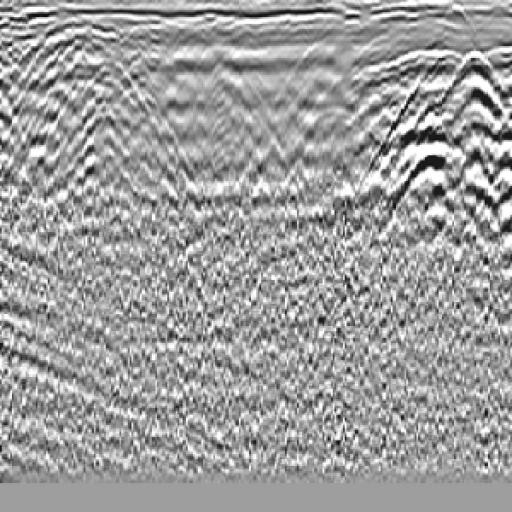non-metallic: (388, 41, 512, 275)
